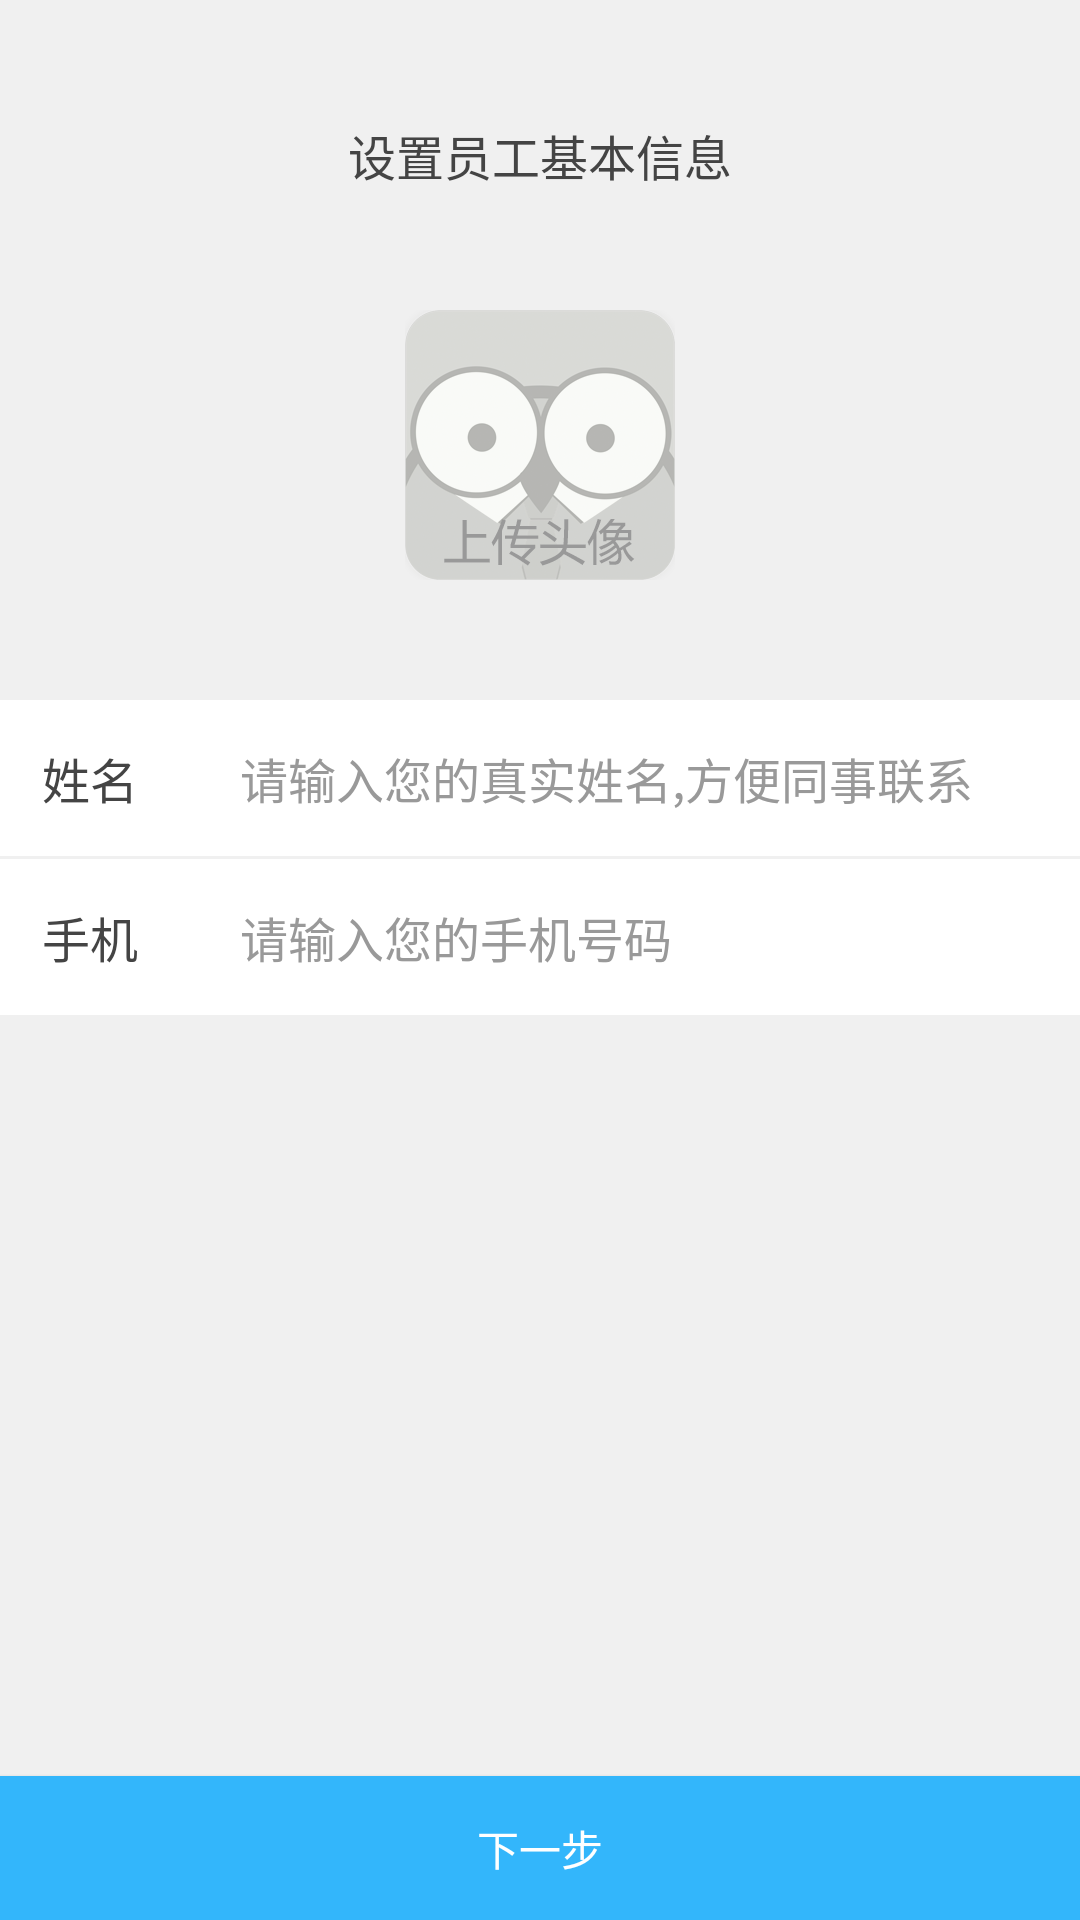

Screen size 1080px×1920px. Icon name, then its center in pixels as (x,y):
member head: (540,445)
